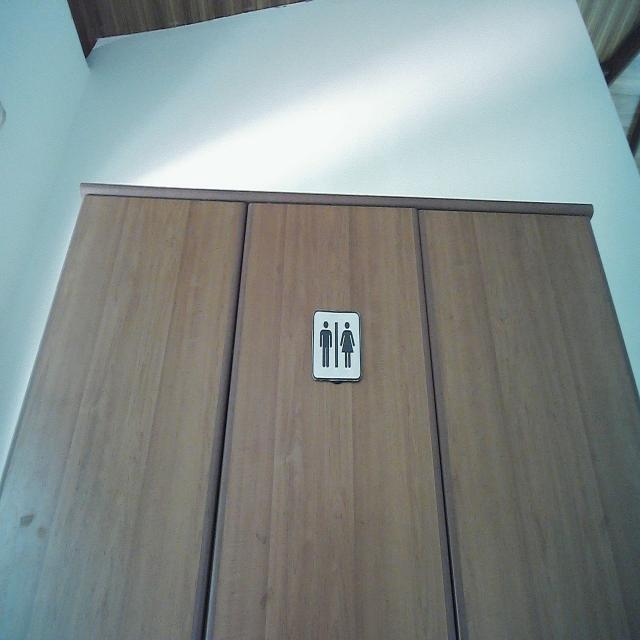restroom: (311, 306, 363, 386)
